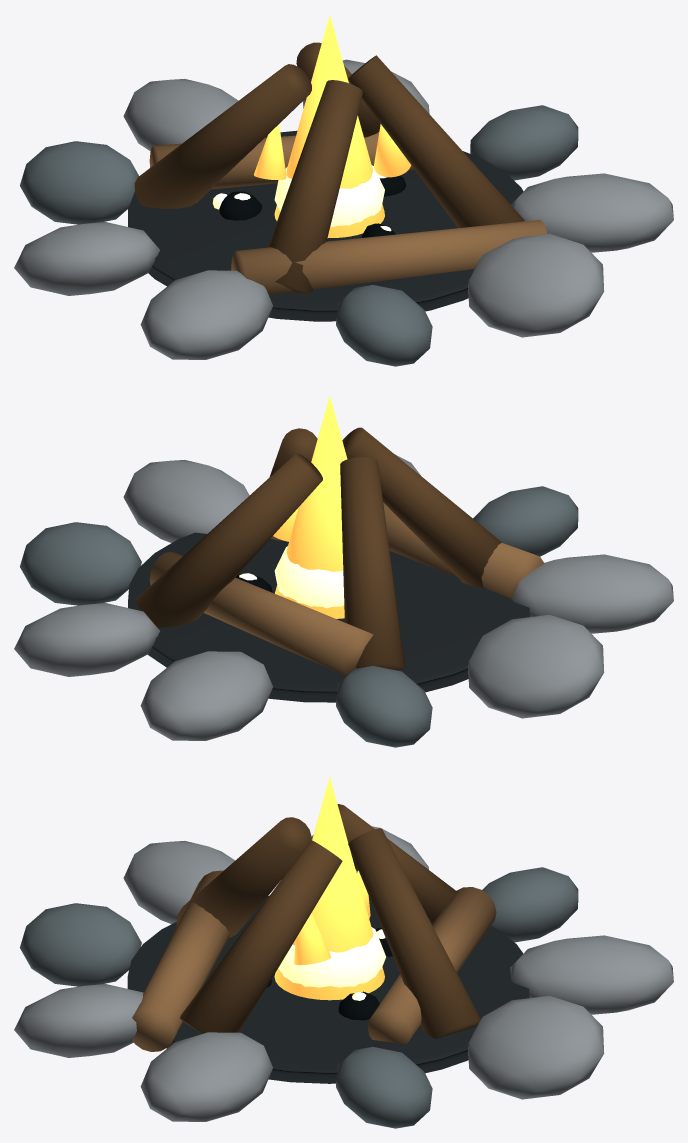
File: 3D模型 props_campfire.glb
3 views of the same model, one above another, from view 1: azimuth 30°, elevation 25°; view 2: azimuth 150°, elevation 25°; view 3: azimuth 270°, elevation 25° (orthographic).
Visible parts, largest first — view 1: part_ash, part_stone_7, part_log_cross, part_log_3, part_log_1, part_stone_8, part_log_2, part_stone_5, part_stone_4, part_stone_3, part_stone_6, part_stone_0 (+9 smaller); view 2: part_ash, part_stone_4, part_log_0, part_log_1, part_stone_5, part_stone_2, part_log_2, part_stone_1, part_log_cross2, part_stone_0, part_stone_8, part_flame_out (+5 smaller); view 3: part_ash, part_stone_1, part_log_3, part_log_0, part_stone_2, part_stone_8, part_stone_6, part_log_cross, part_stone_7, part_flame_out, part_log_2, part_stone_0 (+7 smaller).
Part boxes in pixels (<box>): part_ash: <box>128,130,523,321</box>; part_stone_7: <box>468,233,604,337</box>; part_log_cross: <box>231,220,547,295</box>; part_log_3: <box>348,55,524,228</box>; part_log_1: <box>134,64,311,208</box>; part_stone_8: <box>511,173,673,252</box>; part_log_2: <box>268,80,362,294</box>; part_stone_5: <box>140,270,272,359</box>; part_stone_4: <box>14,222,159,295</box>; part_stone_3: <box>20,141,138,224</box>; part_stone_6: <box>336,285,432,366</box>; part_stone_0: <box>470,105,578,180</box>; part_ash: <box>128,532,530,702</box>; part_stone_4: <box>468,614,604,718</box>; part_log_0: <box>136,453,322,627</box>; part_log_1: <box>340,457,404,669</box>; part_stone_5: <box>511,554,673,633</box>; part_stone_2: <box>140,651,272,740</box>; part_log_2: <box>342,427,501,588</box>; part_stone_1: <box>14,603,159,676</box>; part_log_cross2: <box>149,551,373,676</box>; part_stone_0: <box>20,522,141,605</box>; part_stone_8: <box>123,460,249,542</box>; part_flame_out: <box>275,395,347,618</box>; part_ash: <box>127,895,529,1083</box>; part_stone_1: <box>468,995,604,1099</box>; part_log_3: <box>180,840,342,1033</box>; part_log_0: <box>348,828,480,1038</box>; part_stone_2: <box>510,935,673,1014</box>; part_stone_8: <box>140,1032,272,1121</box>; part_stone_6: <box>20,903,141,986</box>; part_log_cross: <box>132,870,229,1051</box>; part_stone_7: <box>14,984,143,1057</box>; part_flame_out: <box>274,776,384,1000</box>; part_log_2: <box>176,817,311,937</box>; part_stone_0: <box>336,1047,432,1128</box>.
Size of the model in its own units: 1.09 by 0.4428 by 1.11.
